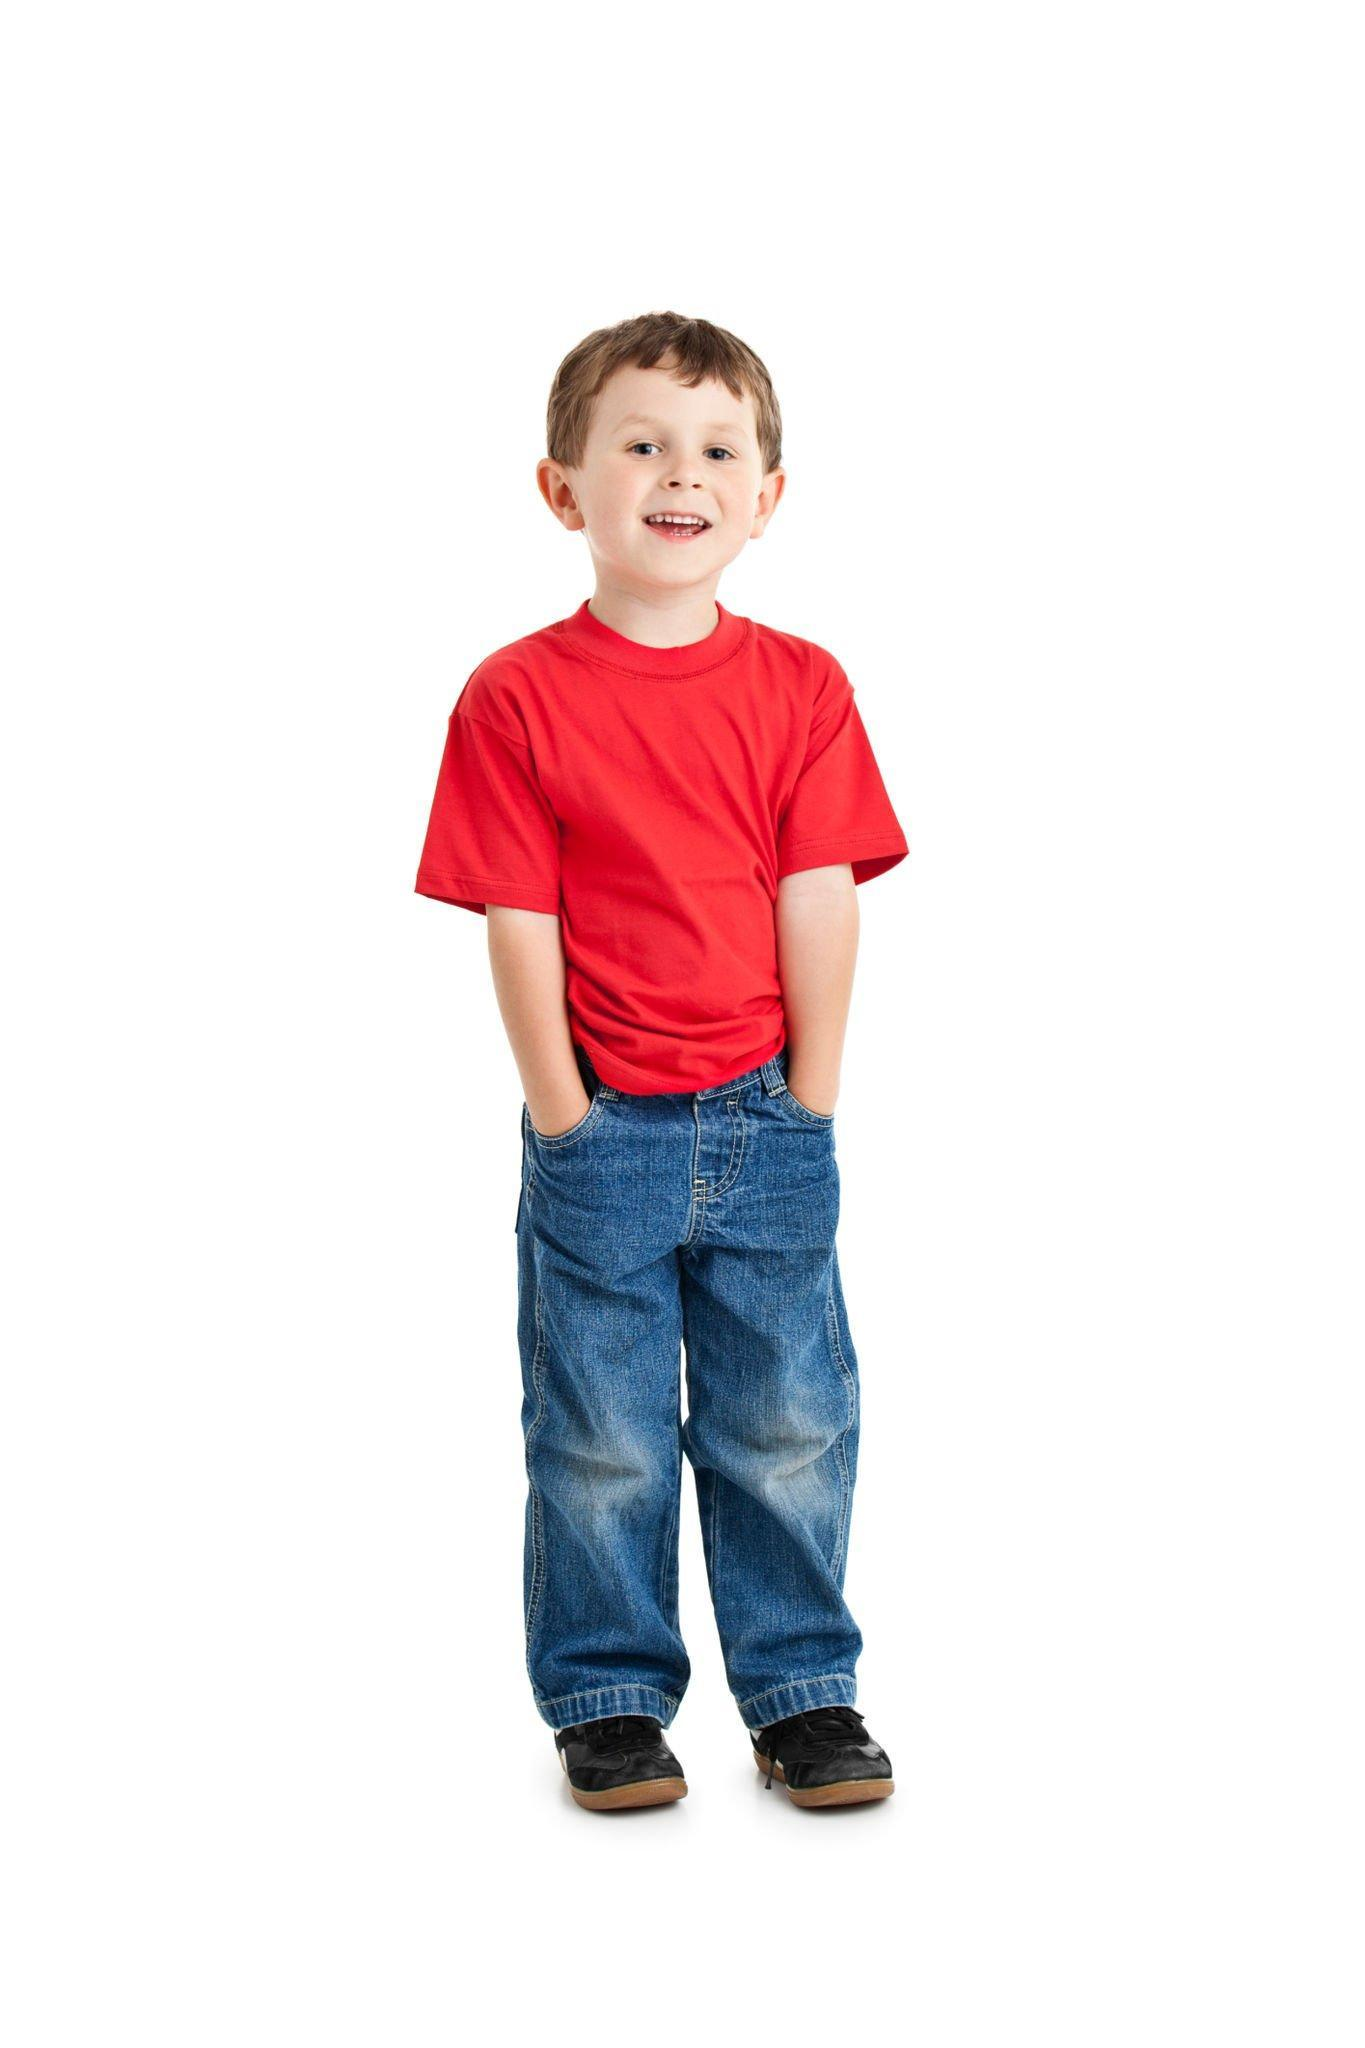Healthy: (527, 297, 795, 635)
